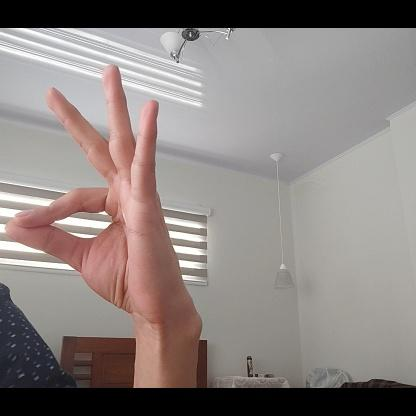F: (4, 61, 184, 322)
